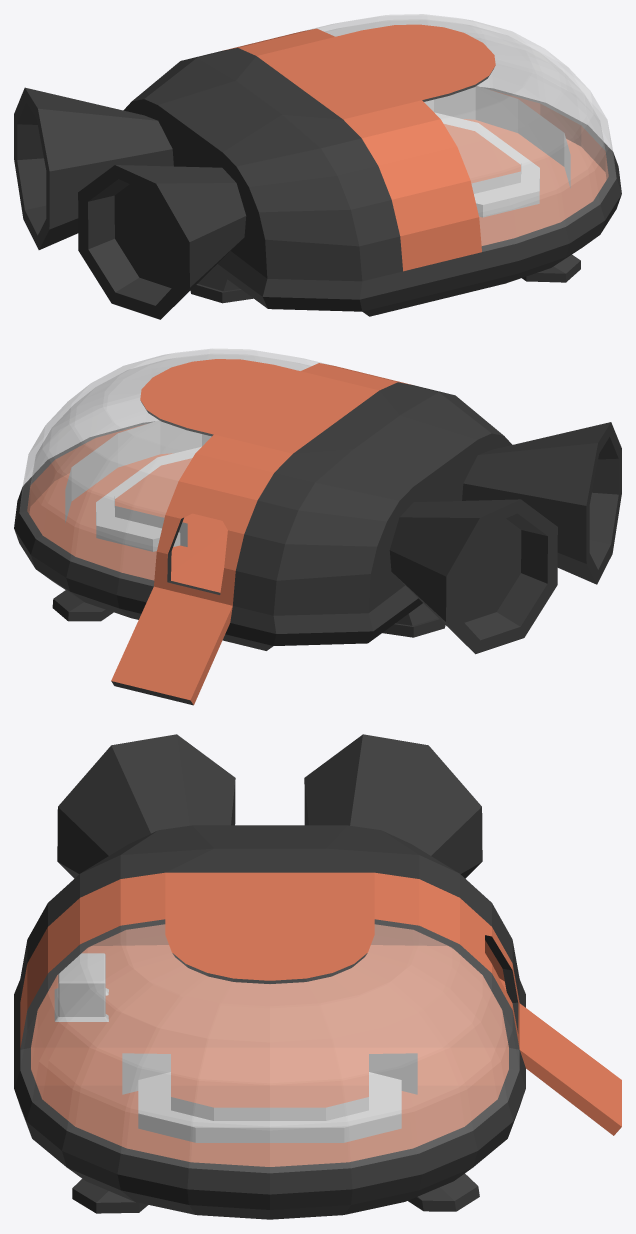
Rendered from spaceship.glb.
The picture shows the model from 3 angles, top to bottom: view 1: azimuth 30°, elevation 25°; view 2: azimuth 150°, elevation 25°; view 3: azimuth 270°, elevation 25°; orthographic projection. The views are drawn at different scales.
Visible parts, largest first — view 1: vaisseau, controlpanel; view 2: vaisseau, controlpanel; view 3: vaisseau, controlpanel, ScienceTable.
Boxes of the visible parts, x1=… form: vaisseau: x1=14, y1=14, x2=621, y2=319; controlpanel: x1=424, y1=86, x2=570, y2=217; vaisseau: x1=14, y1=348, x2=621, y2=705; controlpanel: x1=65, y1=420, x2=211, y2=551; vaisseau: x1=14, y1=734, x2=621, y2=1219; controlpanel: x1=122, y1=1053, x2=417, y2=1142; ScienceTable: x1=54, y1=953, x2=108, y2=1021.
Size of the model in its own units: 15.89 by 5.32 by 13.07.
